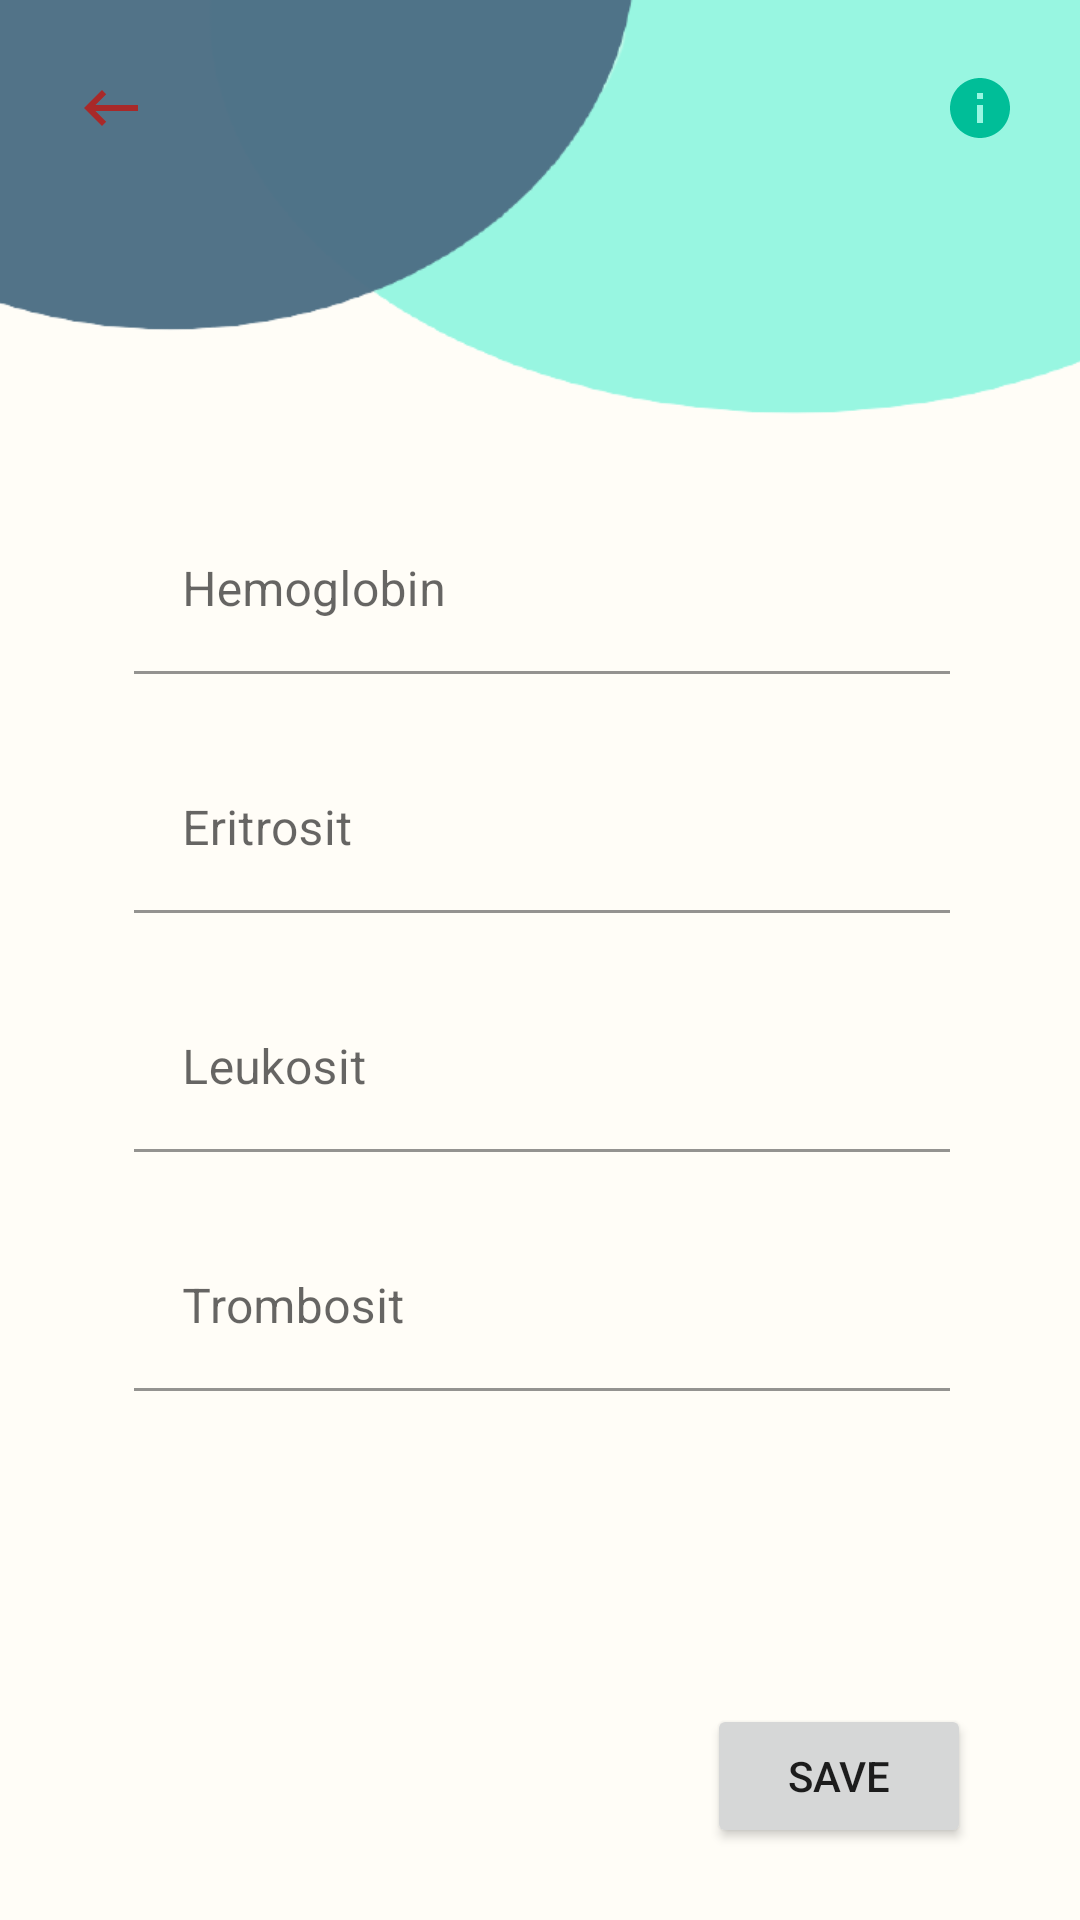

Icon click points for this 1080px×1920px phone screenshot, format (x,y):
arrow back: (111,108)
info: (980,108)
